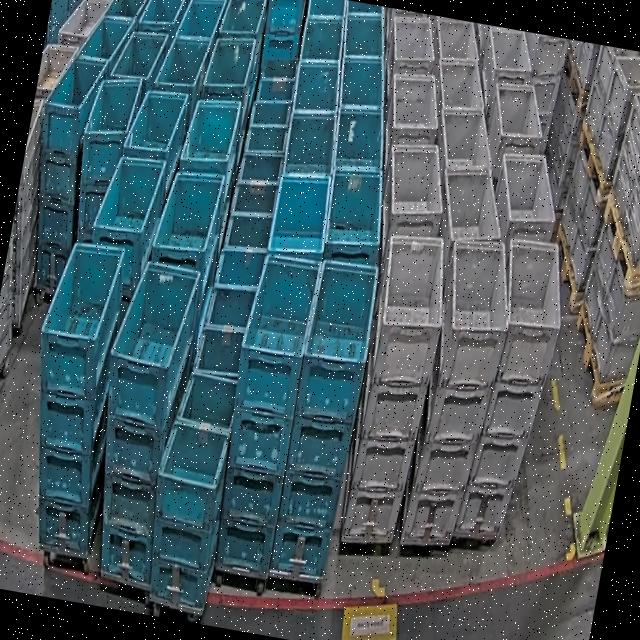4G: (396, 231, 524, 559), (450, 232, 576, 554), (337, 227, 458, 550)
B4: (2, 234, 145, 558), (71, 255, 209, 585), (201, 248, 322, 578), (262, 253, 383, 583), (12, 51, 108, 301), (64, 66, 144, 250), (230, 569, 232, 573)
B8: (134, 368, 245, 611)
